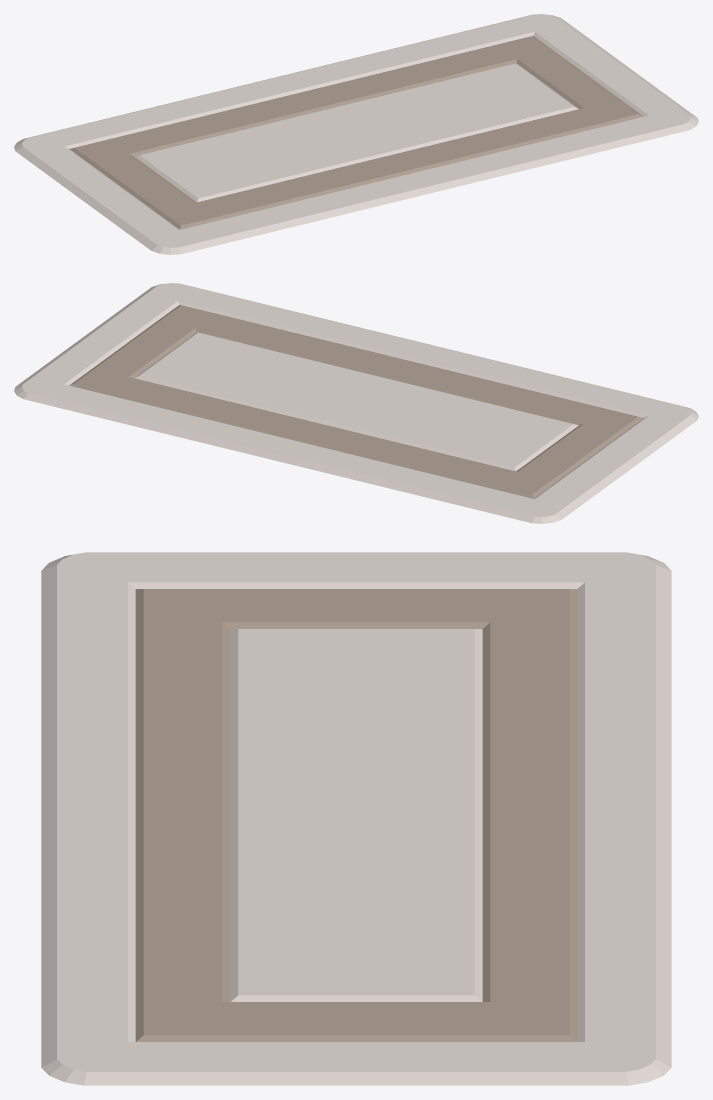
The model's file is Prop_Misc_Rug_Rectangle.obj.
3 views of the same model, one above another, from view 1: azimuth 30°, elevation 25°; view 2: azimuth 150°, elevation 25°; view 3: azimuth 270°, elevation 25° (orthographic). The views are drawn at different scales.
Parts seen in each view (by area): view 1: object1; view 2: object1; view 3: object1.
Boxes of the visible parts, bbox=[...] form: object1: bbox=[14, 14, 698, 254]; object1: bbox=[14, 283, 698, 523]; object1: bbox=[41, 552, 671, 1085].
Size of the model in its own units: 2 by 0.0125 by 1.
